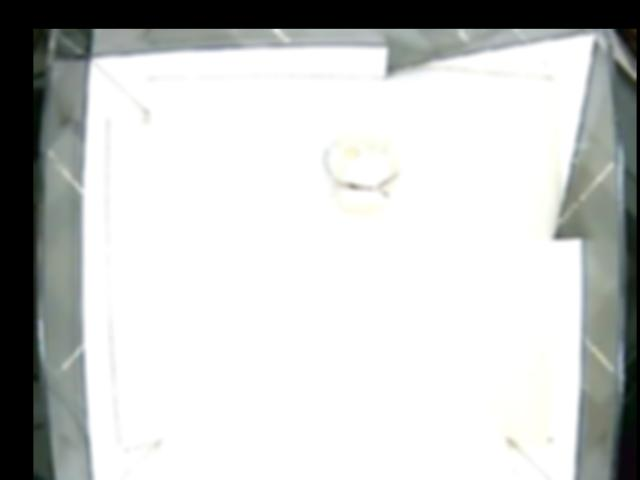Shell: (320, 137, 404, 206)
